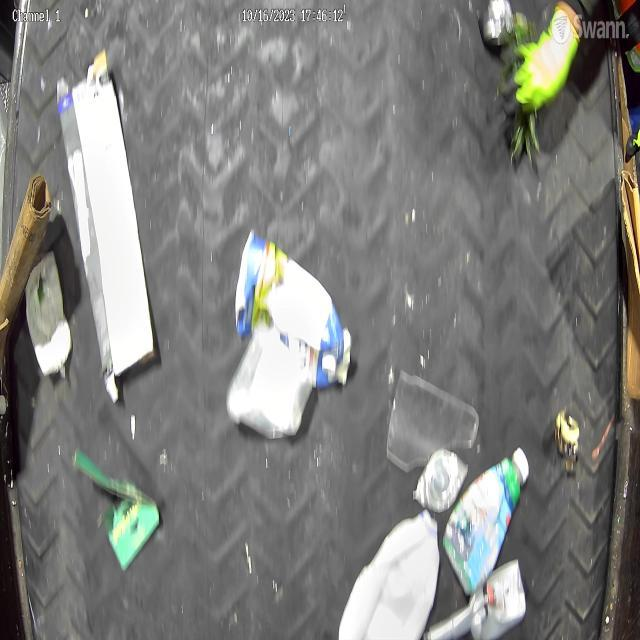can: (412, 448, 470, 512)
milk_jug: (338, 508, 440, 640)
non_white_jug: (235, 228, 352, 389)
